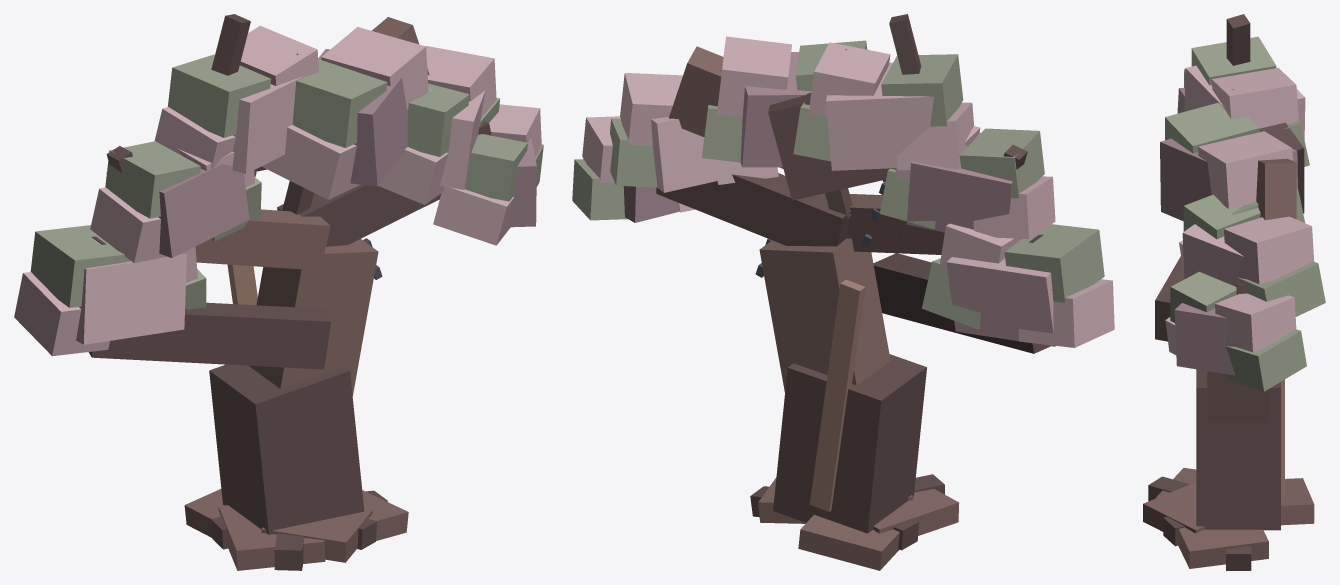
Rendered from gothic_blossom_tree.glb.
The picture shows the model from 3 angles, left to right: view 1: azimuth 30°, elevation 25°; view 2: azimuth 150°, elevation 25°; view 3: azimuth 270°, elevation 25°; orthographic projection. The views are drawn at different scales.
Parts seen in each view (by area): view 1: Moonpost Haunted Blossom Tree; view 2: Moonpost Haunted Blossom Tree; view 3: Moonpost Haunted Blossom Tree.
Boxes of the visible parts, x1,y1,x2,y2 form: Moonpost Haunted Blossom Tree: (14,14,543,570); Moonpost Haunted Blossom Tree: (572,14,1114,570); Moonpost Haunted Blossom Tree: (1143,14,1325,570).
Size of the model in its own units: 17.46 by 17.21 by 5.82.
